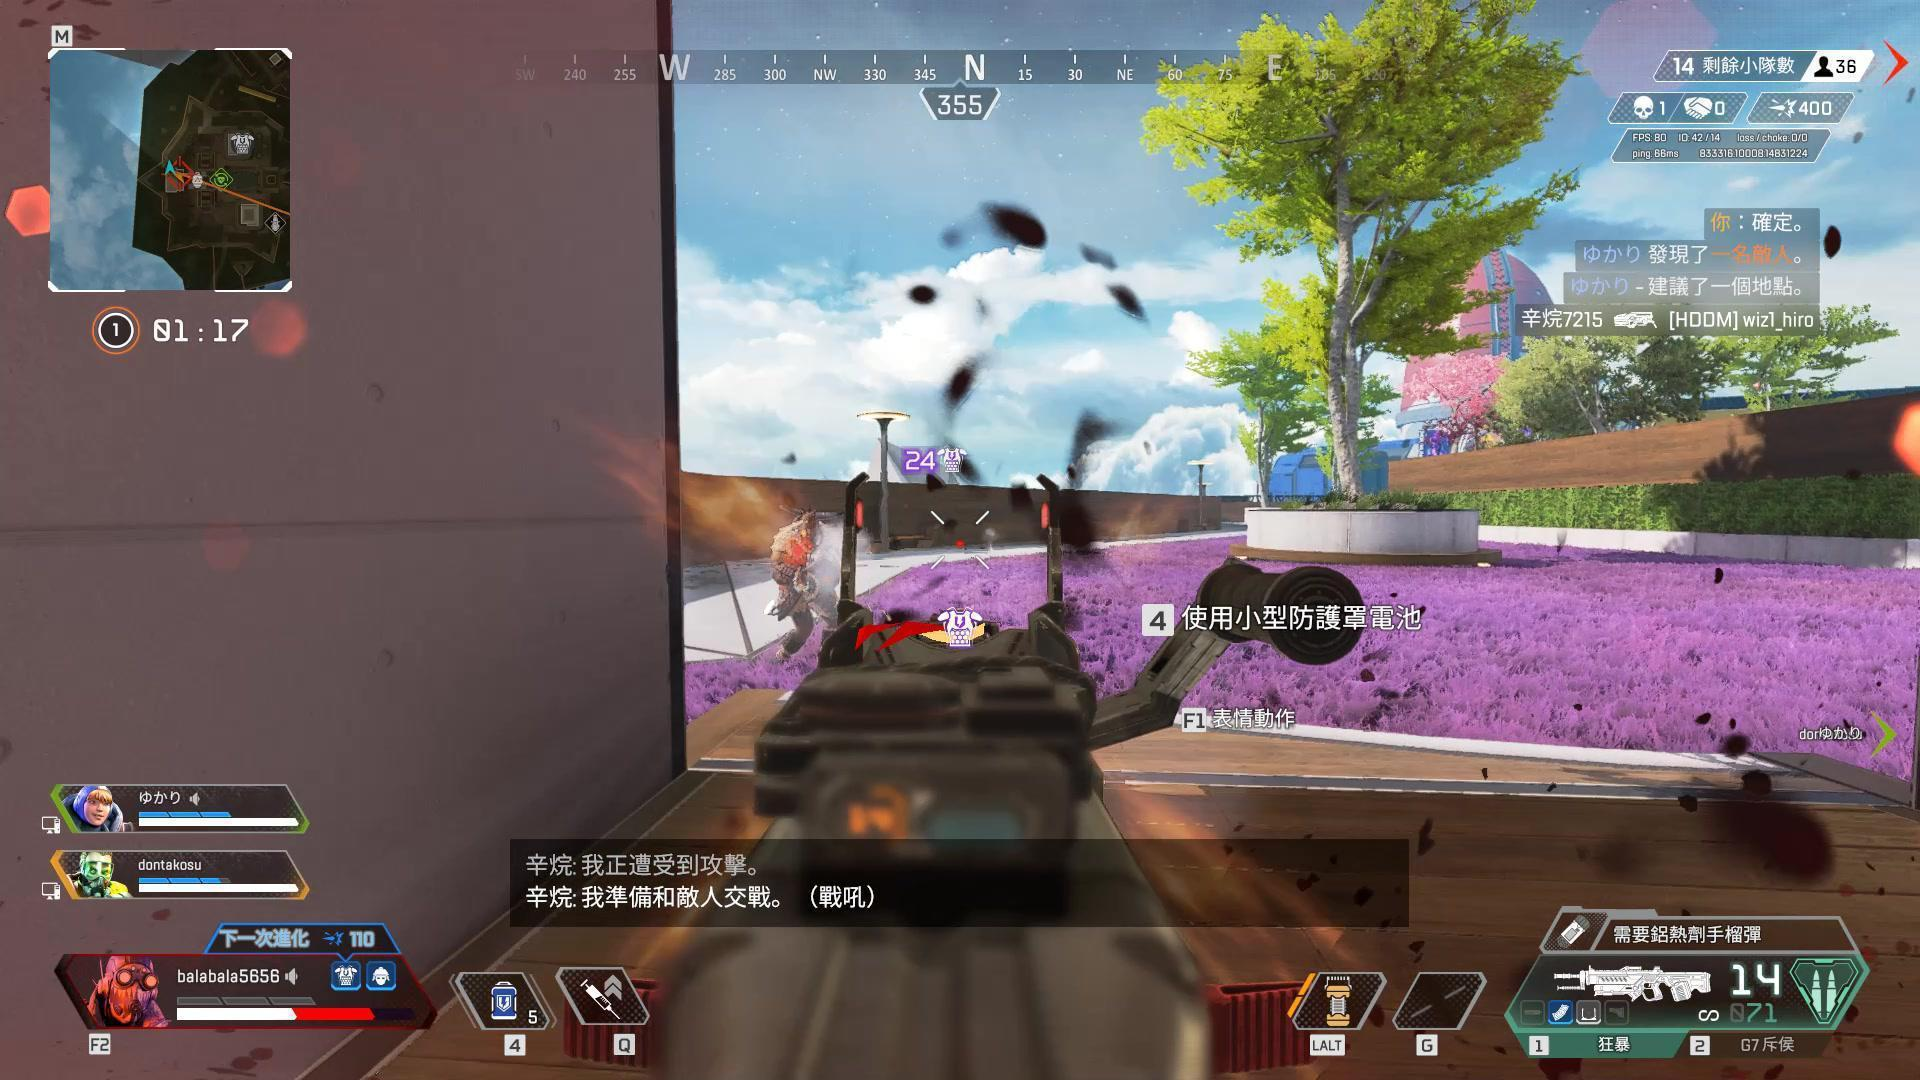avatar: (762, 510, 843, 669)
